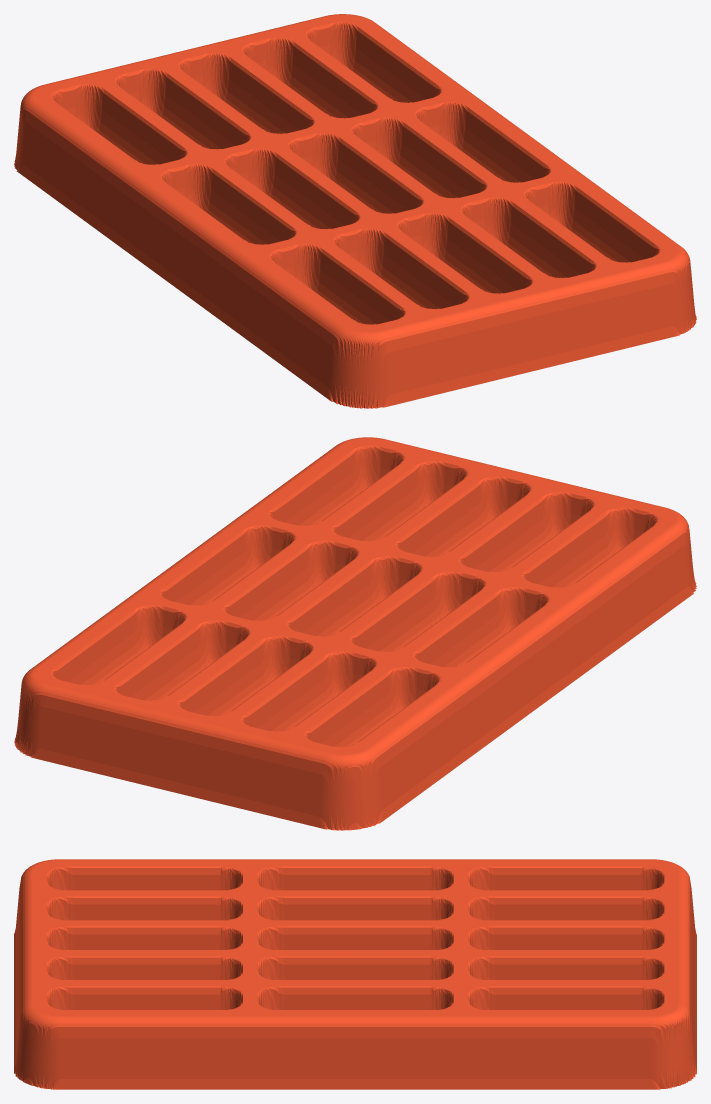
File: mold.glb
3 views of the same model, one above another, from view 1: azimuth 30°, elevation 25°; view 2: azimuth 150°, elevation 25°; view 3: azimuth 270°, elevation 25° (orthographic). The views are drawn at different scales.
Visible parts, largest first — view 1: geometry_0; view 2: geometry_0; view 3: geometry_0.
Boxes of the visible parts, left/top/right/bottom form: geometry_0: left=14, top=14, right=696, bottom=408; geometry_0: left=14, top=437, right=696, bottom=830; geometry_0: left=14, top=859, right=696, bottom=1089.
Size of the model in its own units: 0.0807 by 0.0145 by 0.1361.
